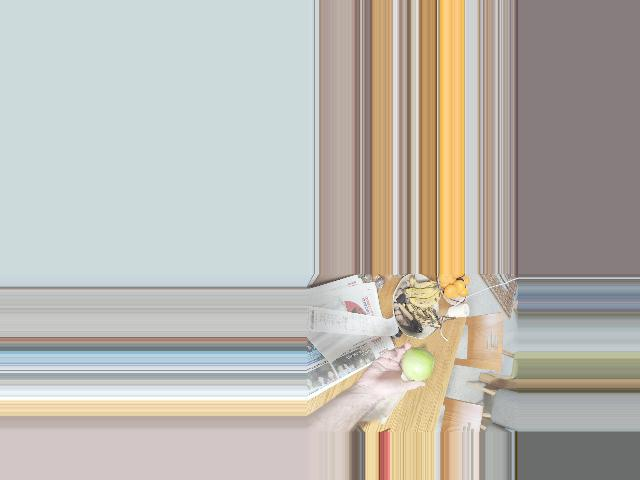apple: (397, 345, 436, 381)
